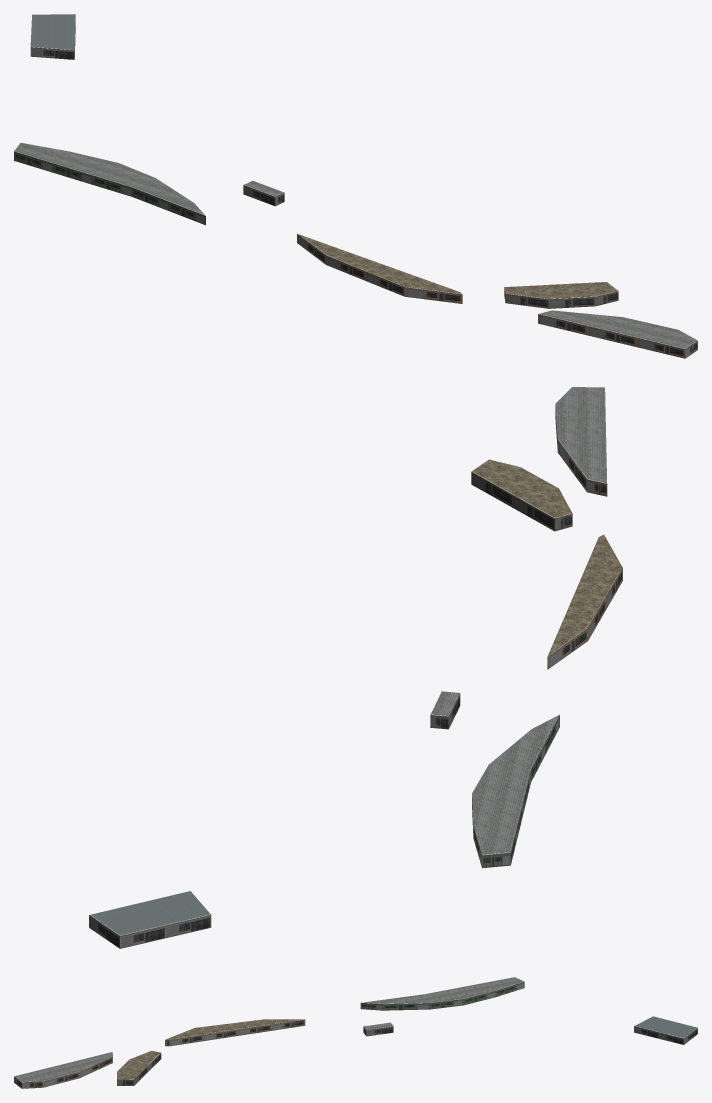
3 views of the same model, one above another, from view 1: azimuth 30°, elevation 25°; view 2: azimuth 150°, elevation 25°; view 3: azimuth 270°, elevation 25° (orthographic). The views are drawn at different scales.
Visible parts, largest first — view 1: SlateRoof, BrickArcade, ConcreteRoof, Workshop, ZincRoof, RibbedFront, PanelArcade; view 2: SlateRoof, ConcreteRoof, ZincRoof, PanelArcade, BrickArcade, RibbedFront, Workshop; view 3: SlateRoof, BrickArcade, ConcreteRoof, Workshop, ZincRoof, PanelArcade, RibbedFront.
Boxes of the visible parts, x1,y1,x2,y2 form: SlateRoof: (14, 143, 697, 349); BrickArcade: (297, 234, 697, 358); ConcreteRoof: (298, 234, 618, 299); Workshop: (14, 151, 205, 225); ZincRoof: (30, 14, 75, 50); RibbedFront: (504, 287, 618, 308); PanelArcade: (30, 25, 284, 206); SlateRoof: (430, 387, 607, 855); ConcreteRoof: (471, 459, 622, 656); ZincRoof: (89, 891, 210, 936); PanelArcade: (89, 693, 460, 948); BrickArcade: (547, 407, 622, 669); RibbedFront: (471, 472, 572, 531); Workshop: (472, 715, 559, 868); SlateRoof: (14, 977, 524, 1082); BrickArcade: (14, 1019, 305, 1088); ConcreteRoof: (117, 1019, 303, 1079); Workshop: (360, 982, 524, 1010); ZincRoof: (634, 1016, 697, 1038); PanelArcade: (363, 1026, 697, 1044); RibbedFront: (117, 1053, 161, 1085).
Size of the model in its own units: 107 by 3.12 by 294.
7 materials, 7 textured.
